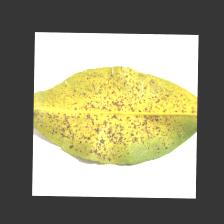canker: (65, 82, 161, 146)
